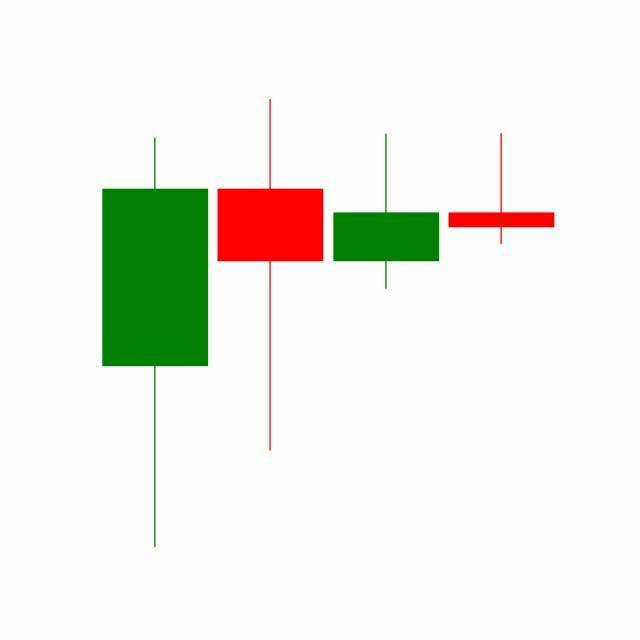Gravestone Doji: (444, 132, 560, 246)
